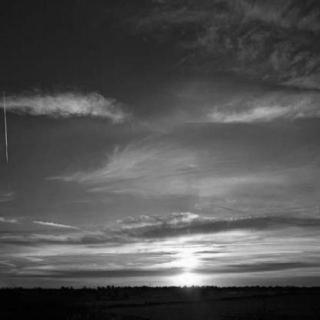other: (158, 237, 218, 290)
